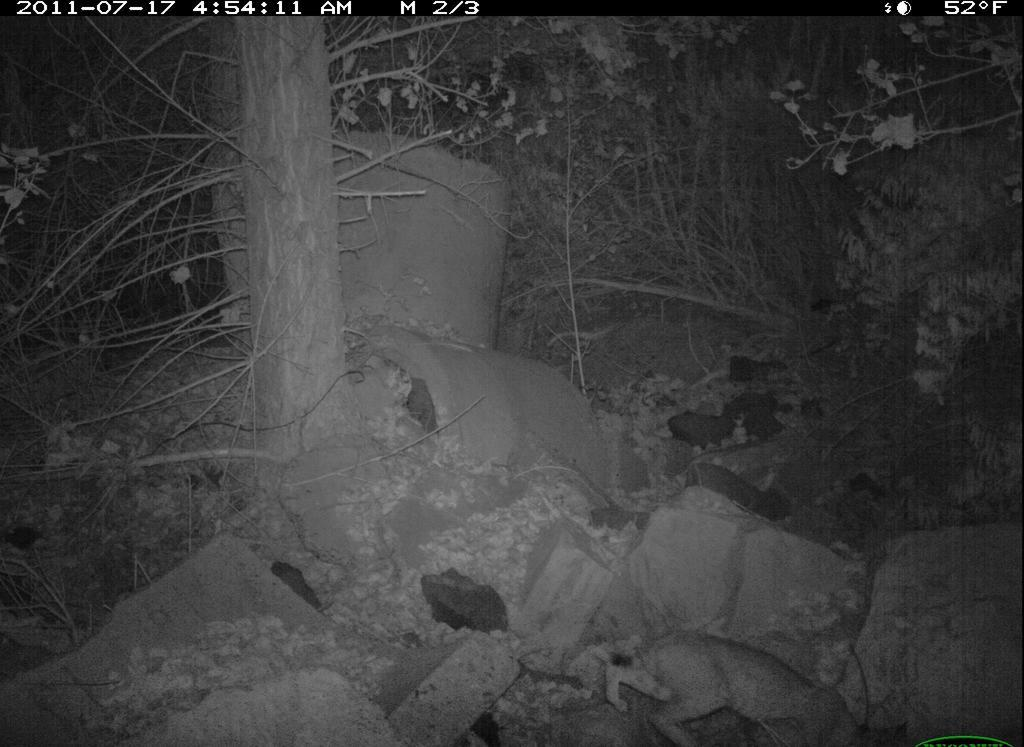bobcat: (584, 603, 886, 747)
